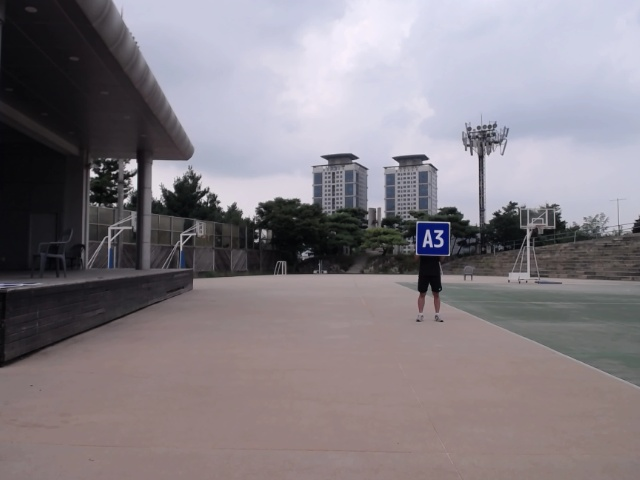delivery_a3: (416, 221, 451, 256)
